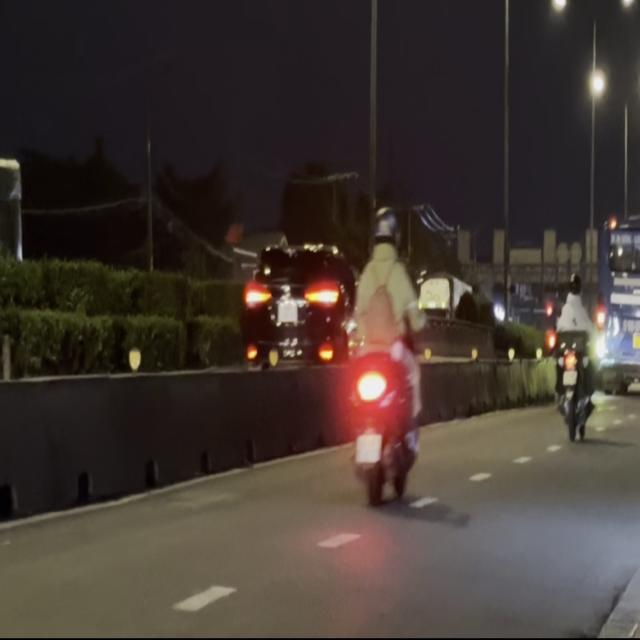helmet: (370, 204, 398, 253)
licenseplate: (346, 202, 425, 510)
nohelmet: (354, 433, 381, 462)
